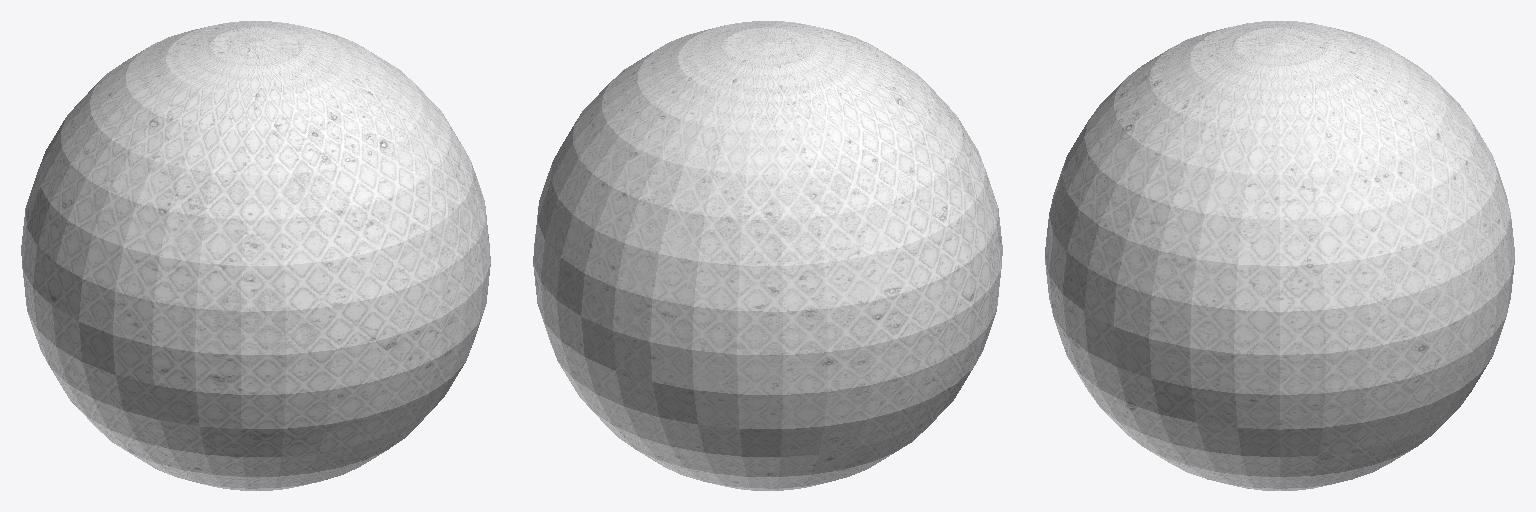
3 renders of one model, left to right at view 1: azimuth 30°, elevation 25°; view 2: azimuth 150°, elevation 25°; view 3: azimuth 270°, elevation 25°, orthographic.
Parts seen in each view (by area): view 1: Sphere; view 2: Sphere; view 3: Sphere.
Boxes of the visible parts, x1,y1,x2,y2 form: Sphere: [21, 21, 490, 490]; Sphere: [533, 21, 1002, 490]; Sphere: [1045, 21, 1514, 490].
Bounding box in the file's own units: 2 × 2 × 2.
Materials: 1 (1 with a texture image).